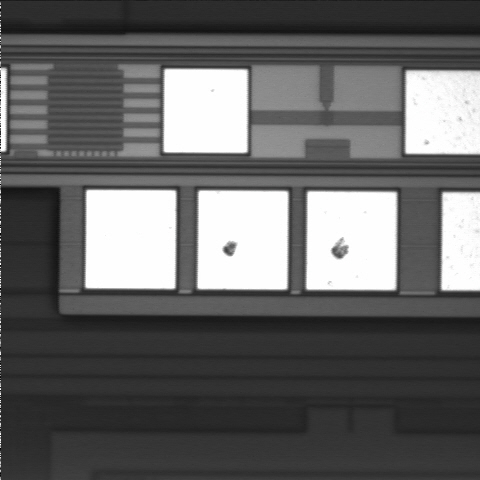pad: (306, 191, 397, 290), (86, 190, 176, 289), (198, 191, 288, 289), (164, 69, 247, 153)
